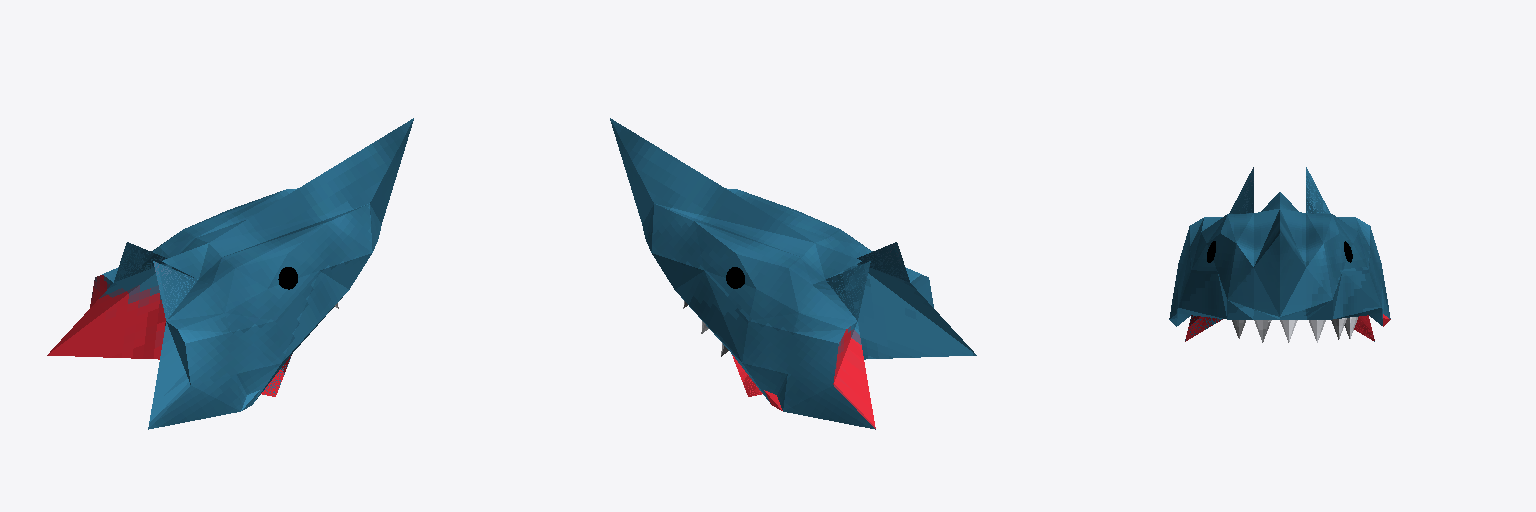
3 renders of one model, left to right at view 1: azimuth 30°, elevation 25°; view 2: azimuth 150°, elevation 25°; view 3: azimuth 270°, elevation 25°, orthographic.
Parts seen in each view (by area): view 1: head_Cube.002; view 2: head_Cube.002; view 3: head_Cube.002.
Part boxes in pixels (x1,y1,x2,y2): head_Cube.002: (47, 118, 413, 429); head_Cube.002: (610, 118, 976, 429); head_Cube.002: (1169, 167, 1390, 342).
Bounding box in the file's own units: 3.48 × 2.09 × 2.11.
1 materials, 1 textured.